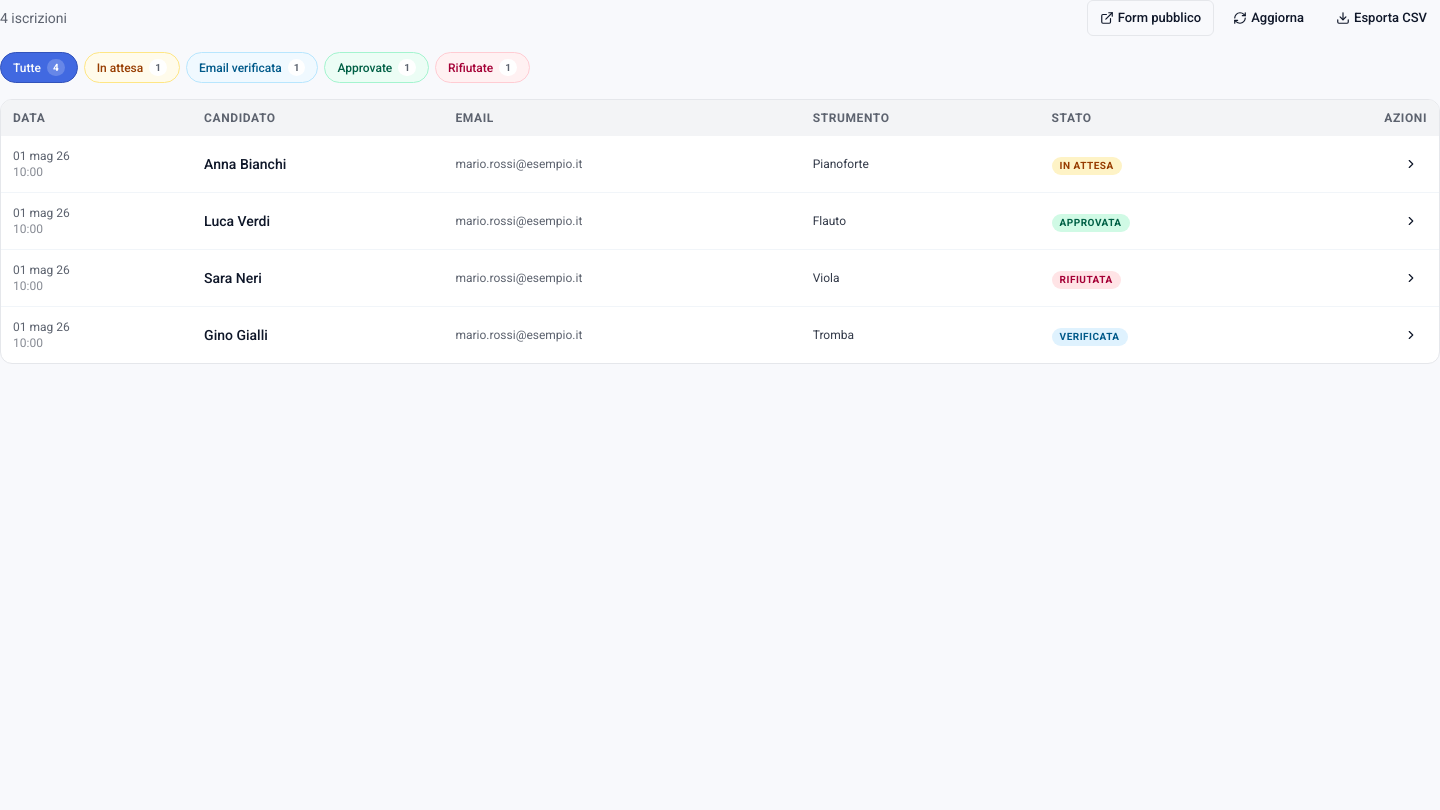
Test case: IscrizioniTab › approves an INVIATA row: POSTs to the approve endpoint with the right id and shows success
Click the text "Anna Bianchi" at (720, 165), box left=1, top=136, right=1439, bottom=193
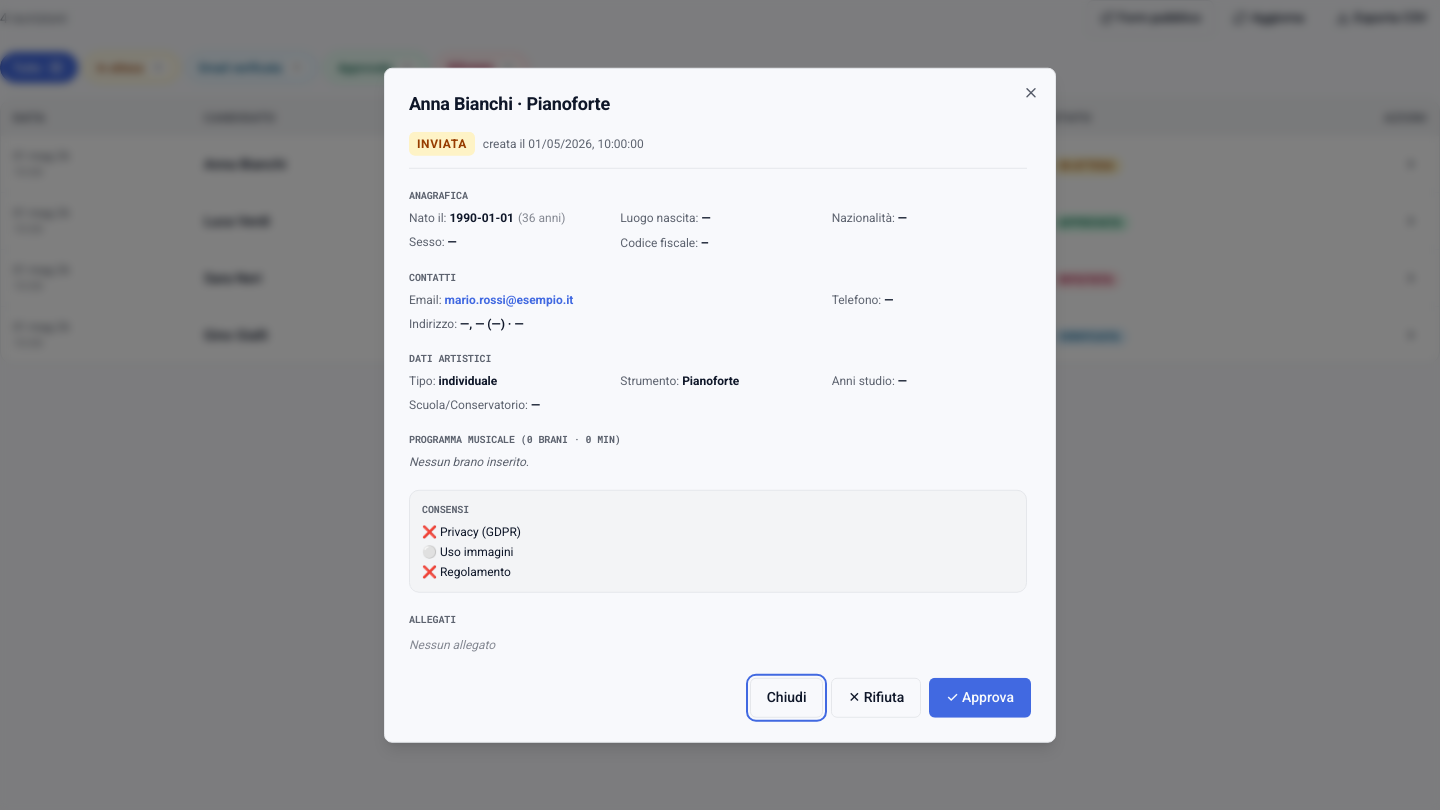
Click the button "✓ Approva" at (980, 697), box left=929, top=677, right=1031, bottom=717
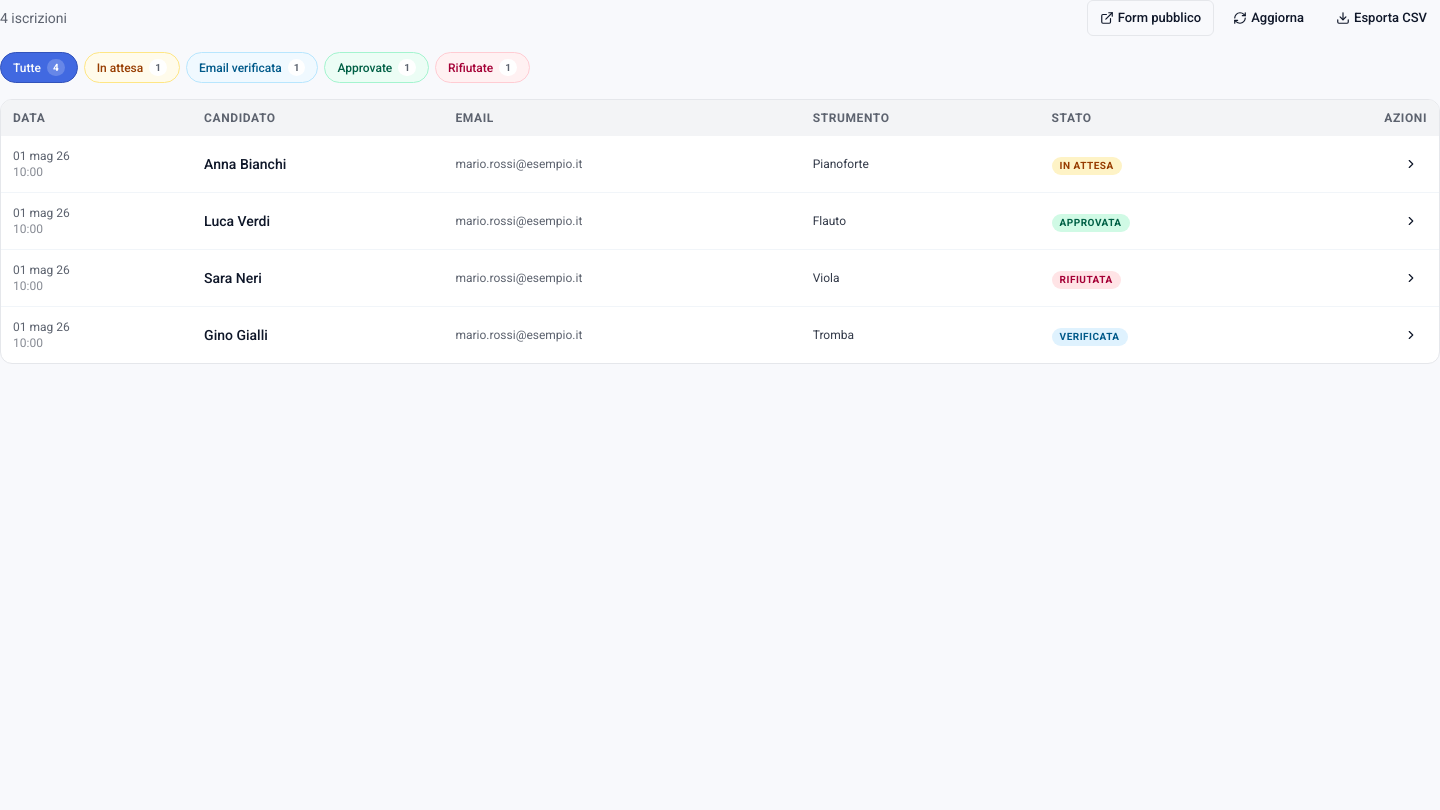
Expected: the dialog is gone
